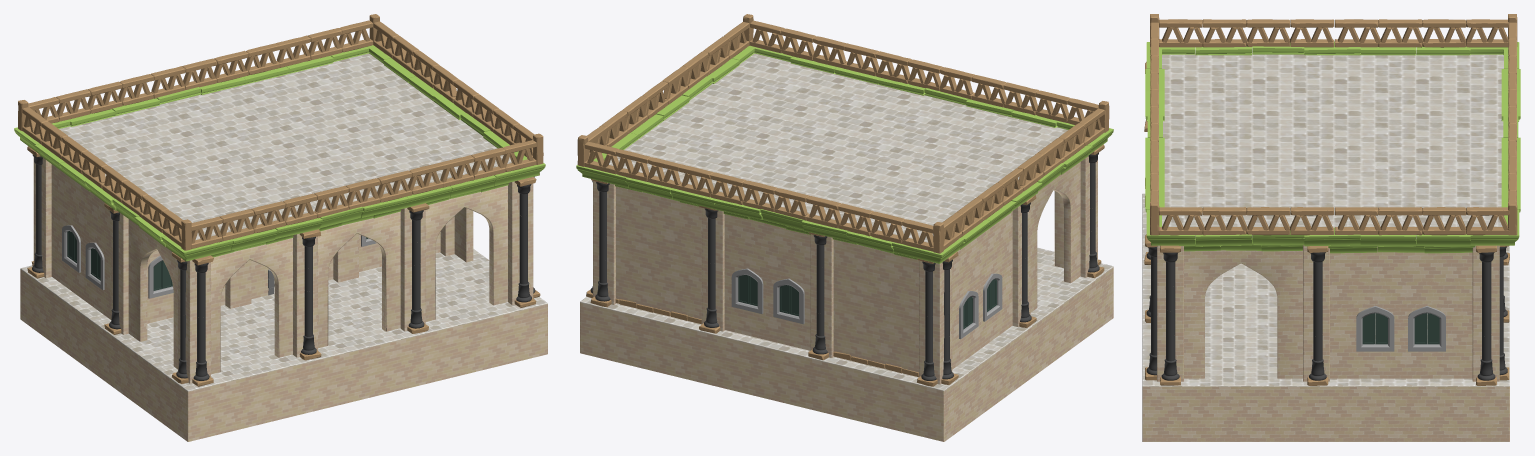
Rendered from SM_house_desert_02.fbx.
The picture shows the model from 3 angles, left to right: view 1: azimuth 30°, elevation 25°; view 2: azimuth 150°, elevation 25°; view 3: azimuth 270°, elevation 25°; orthographic projection. The views are drawn at different scales.
Parts seen in each view (by area): view 1: 000001; view 2: 000001; view 3: 000001.
Boxes of the visible parts, box(x1,y1,x2,y2) form: 000001: box(14, 14, 547, 441); 000001: box(576, 14, 1113, 441); 000001: box(1142, 14, 1520, 441).
Size of the model in its own units: 575 by 325 by 472.
